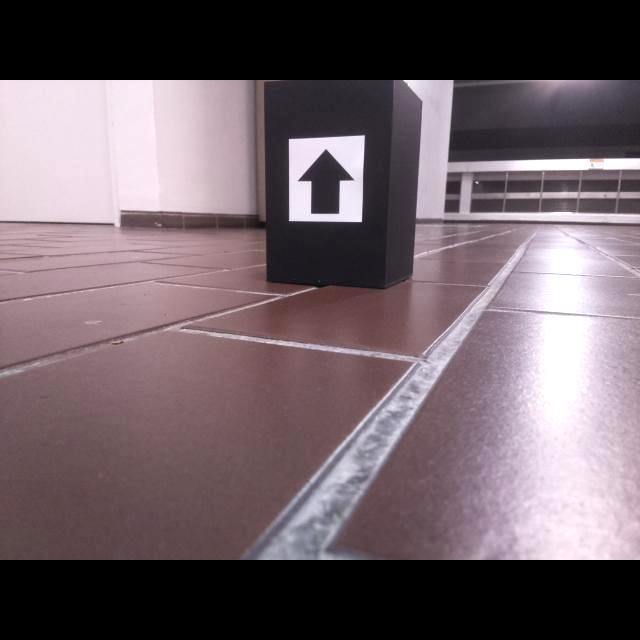UP: (297, 148, 355, 215)
